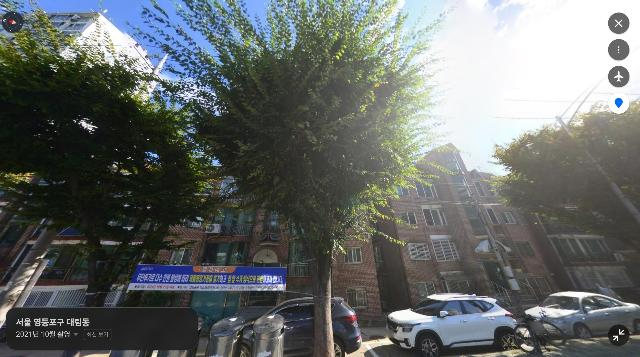other: (131, 0, 464, 357), (0, 19, 219, 311), (485, 100, 640, 294)
